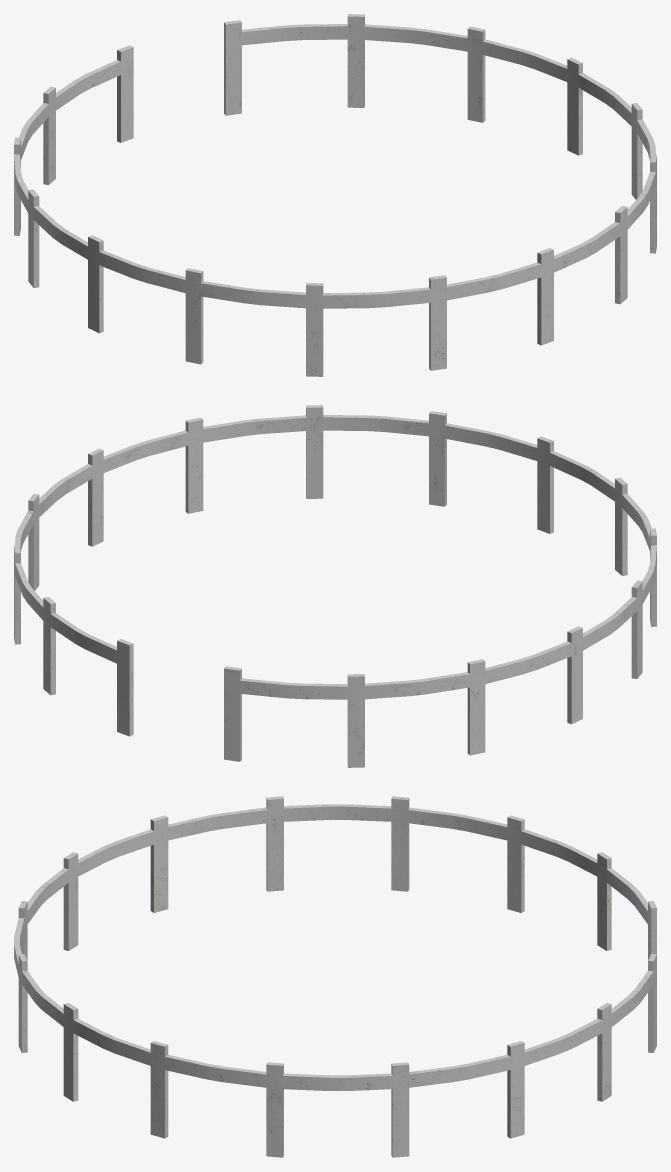
The model's file is m_ext_fenceRoundopening.fbx.
3 renders of one model, top to bottom at view 1: azimuth 30°, elevation 25°; view 2: azimuth 150°, elevation 25°; view 3: azimuth 270°, elevation 25°, orthographic.
Visible parts, largest first — view 1: m_fence; view 2: m_fence; view 3: m_fence.
Part boxes in pixels (x1,y1,x2,y2): m_fence: [14, 14, 656, 376]; m_fence: [14, 405, 656, 767]; m_fence: [14, 796, 656, 1157].
Size of the model in its own units: 894 by 140 by 887.
